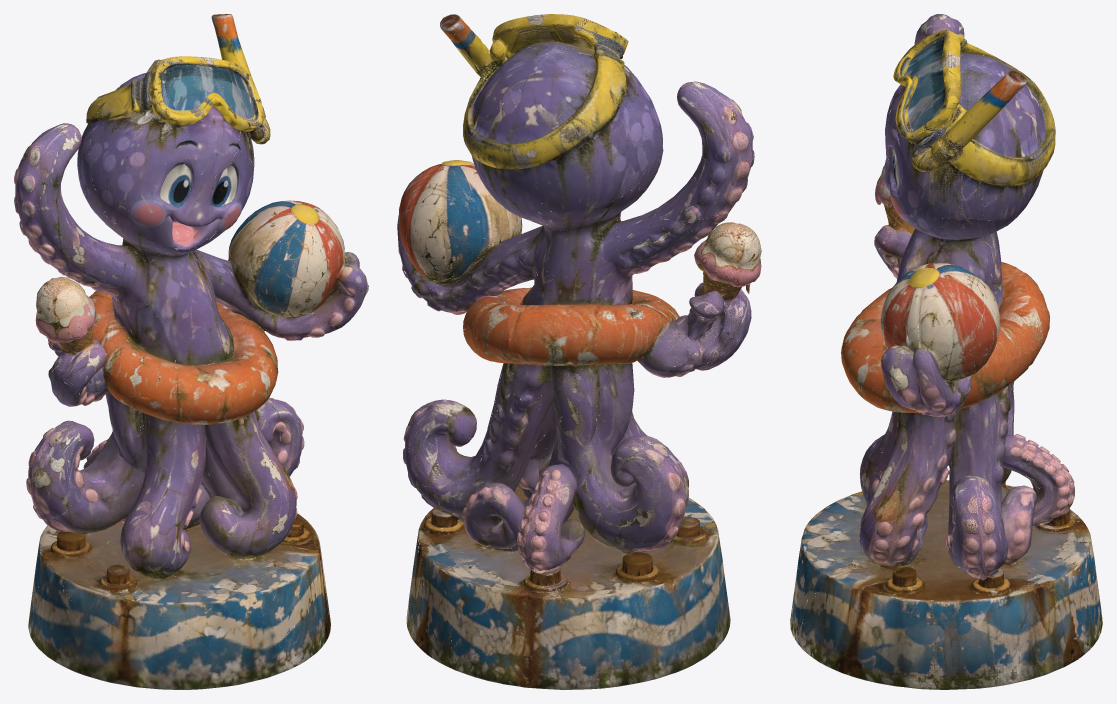
File: statua_polpo_B.glb
3 renders of one model, left to right at view 1: azimuth 30°, elevation 25°; view 2: azimuth 150°, elevation 25°; view 3: azimuth 270°, elevation 25°, orthographic. The views are drawn at different scales.
Visible parts, largest first — view 1: statua_polpo_B; view 2: statua_polpo_B; view 3: statua_polpo_B.
Boxes of the visible parts, x1,y1,x2,y2 form: statua_polpo_B: (14,14,368,689); statua_polpo_B: (397,14,761,689); statua_polpo_B: (790,14,1102,689).
Size of the model in its own units: 1.41 by 2.3 by 1.11.
1 material, 1 textured.
